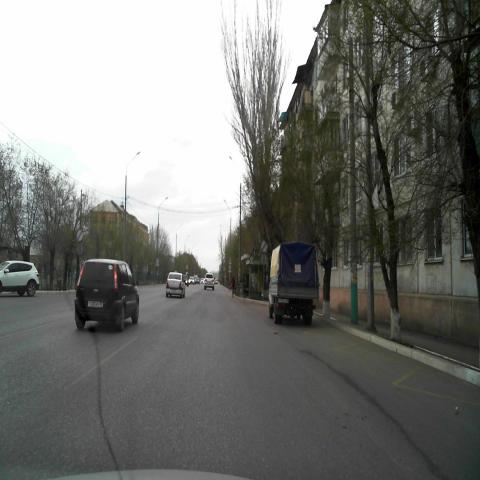3_31: (76, 227, 84, 243)
